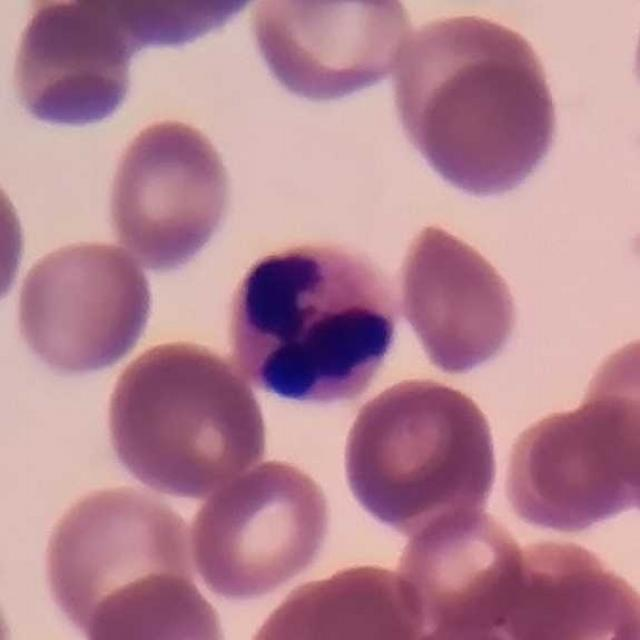Neutrophil: (219, 229, 410, 416)
RBC: (101, 335, 272, 500), (337, 373, 503, 529), (36, 480, 197, 639), (412, 51, 564, 205), (185, 456, 336, 604), (380, 12, 547, 144), (100, 114, 239, 272), (9, 235, 158, 381), (393, 218, 524, 379), (502, 396, 640, 536), (245, 0, 423, 108), (393, 508, 532, 640), (6, 0, 140, 136), (242, 560, 428, 640), (573, 330, 640, 508), (503, 560, 640, 640), (84, 569, 232, 640), (92, 0, 278, 51), (0, 156, 31, 322)
